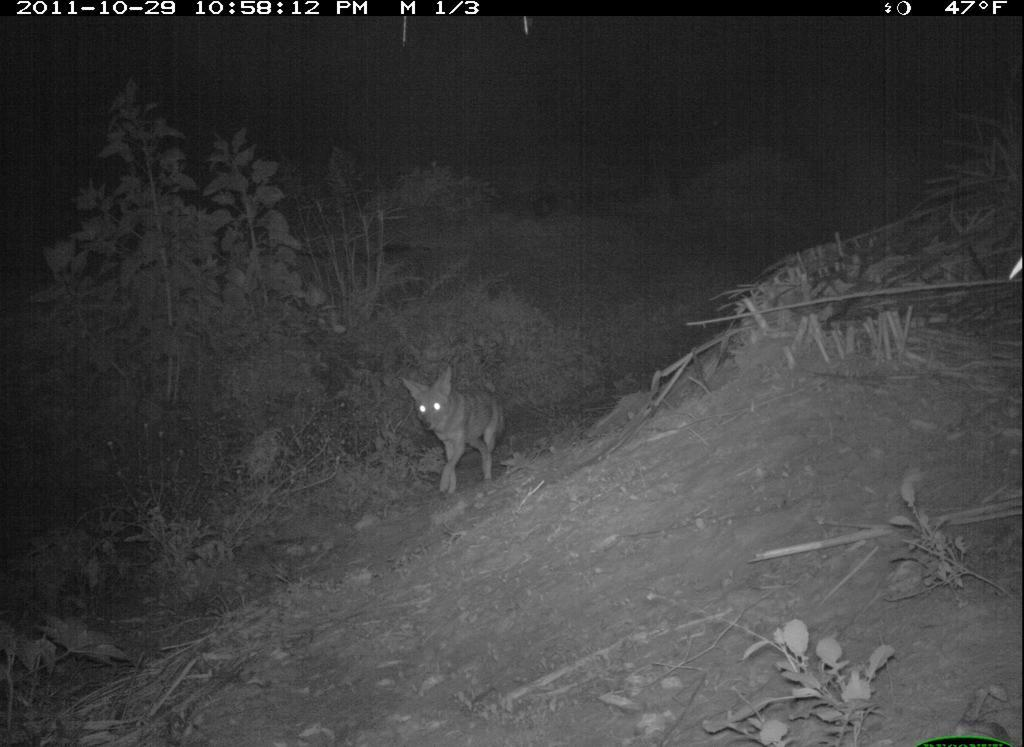coyote: (392, 358, 519, 501)
